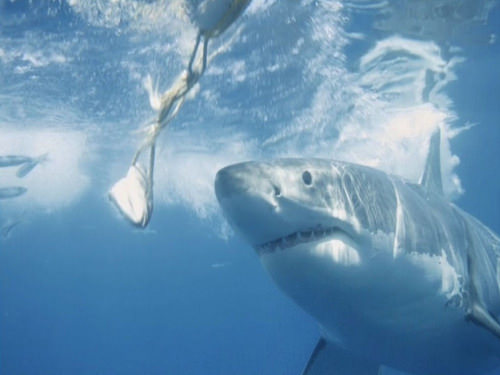shark: (188, 80, 496, 370)
